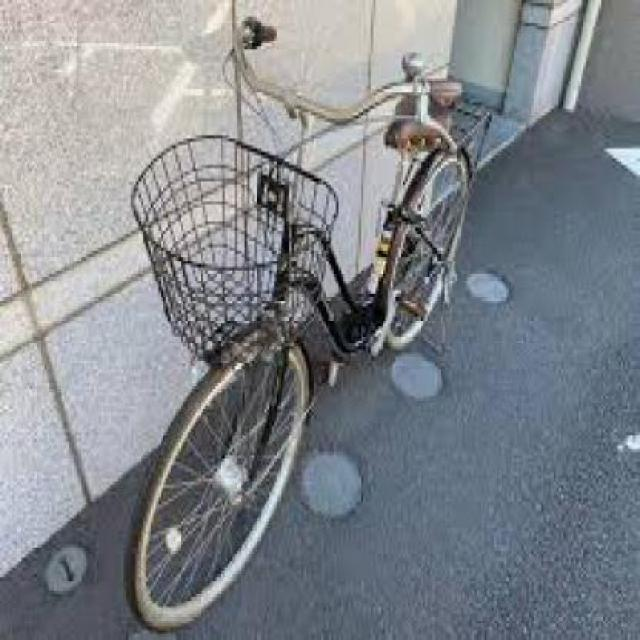bicycle: (119, 40, 499, 634)
